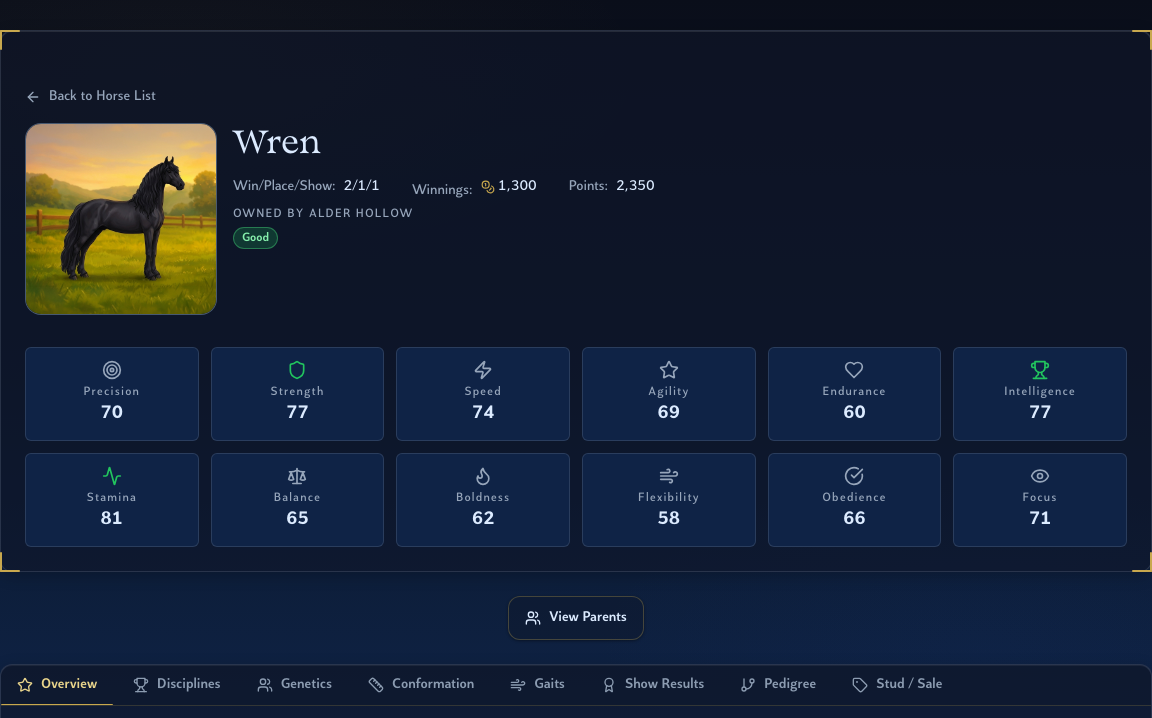
Test: the horse page in visitor mode is the owner page, read-only › accepting there: the line saying the mare is in foal stays after the requests refresh
This screenshot has width=1152, height=718.
Expected: the heading "Wren" is shown, x1=233 y1=129 x2=322 y2=161
Click the tab "Stud / Sale" at (898, 685), box x1=836 y1=665 x2=959 y2=705
(page scrolled)
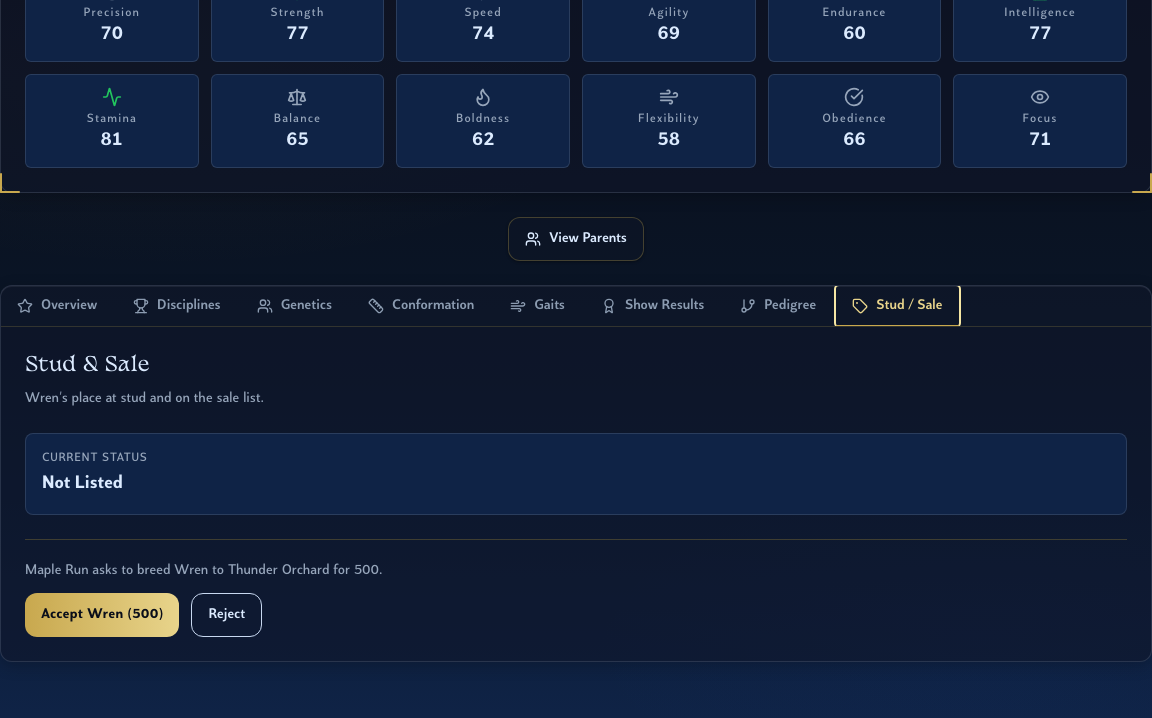
Click the button "Accept Wren (500)" at (102, 615), box x1=25 y1=593 x2=179 y2=637
(page scrolled)
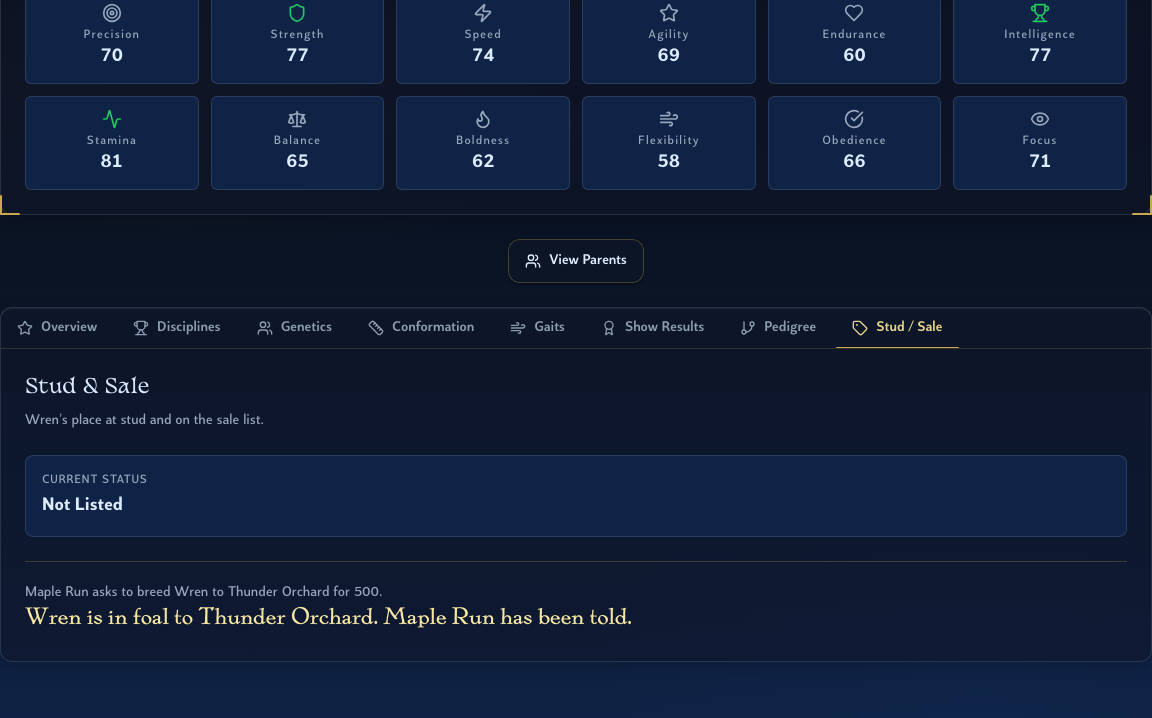
Result: the text "Wren is in foal to Thunder Orchard. Maple Run has been told." is shown at x1=25 y1=606 x2=632 y2=629
Result: the button "Accept Wren (500)" is gone
